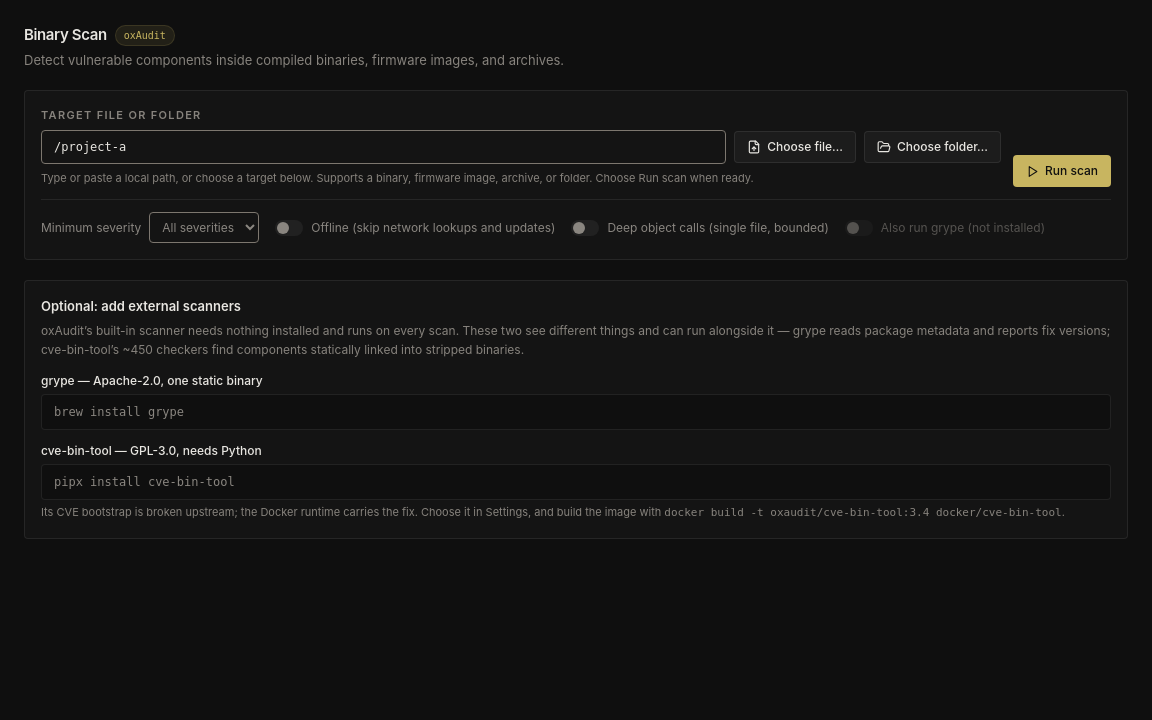
it: binary reloads the saved A receipt after completing A, editing B, and returning to A without a backend revision
Click the button "Run scan". click: (1062, 171)
box: [1013,155,1111,187]
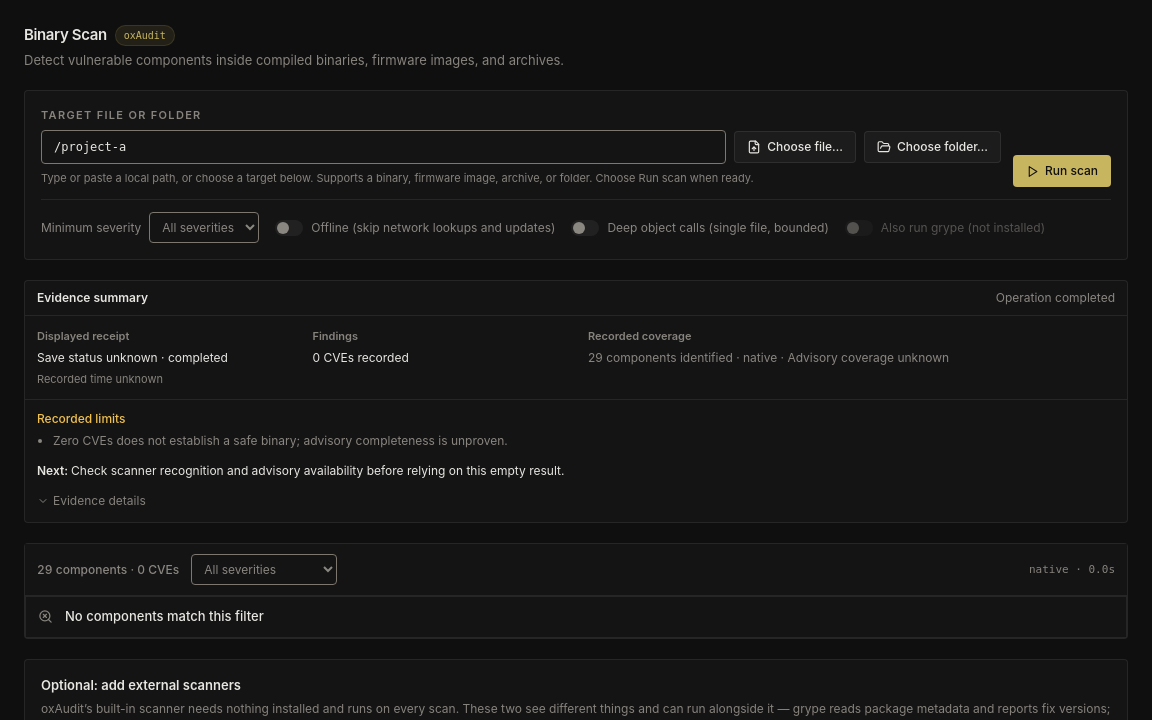
Expected: the text "29 components · 0 CVEs" is shown, [37,561,179,579]
Replace the text in the field named "Binary scan target" with "/project-b". click: (384, 146)
box: [41,130,726,164]
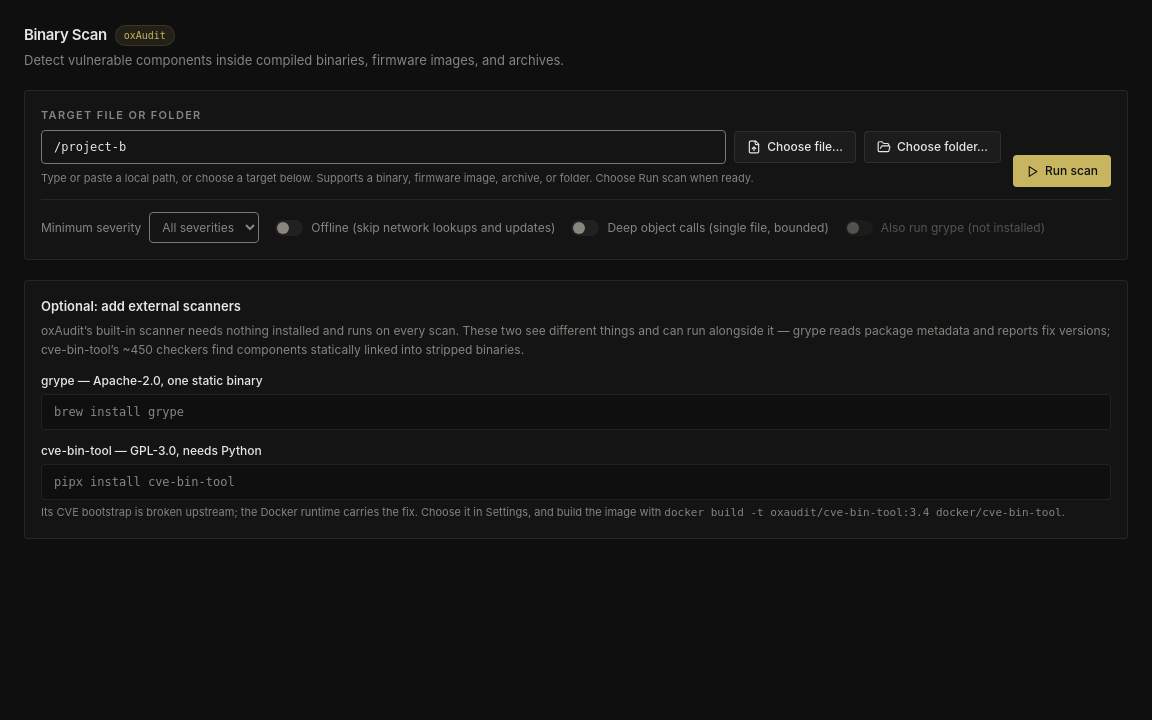
Expected: the text "29 components · 0 CVEs" is gone
Replace the text in the field named "Binary scan target" with "/project-a". click: (384, 146)
box: [41,130,726,164]
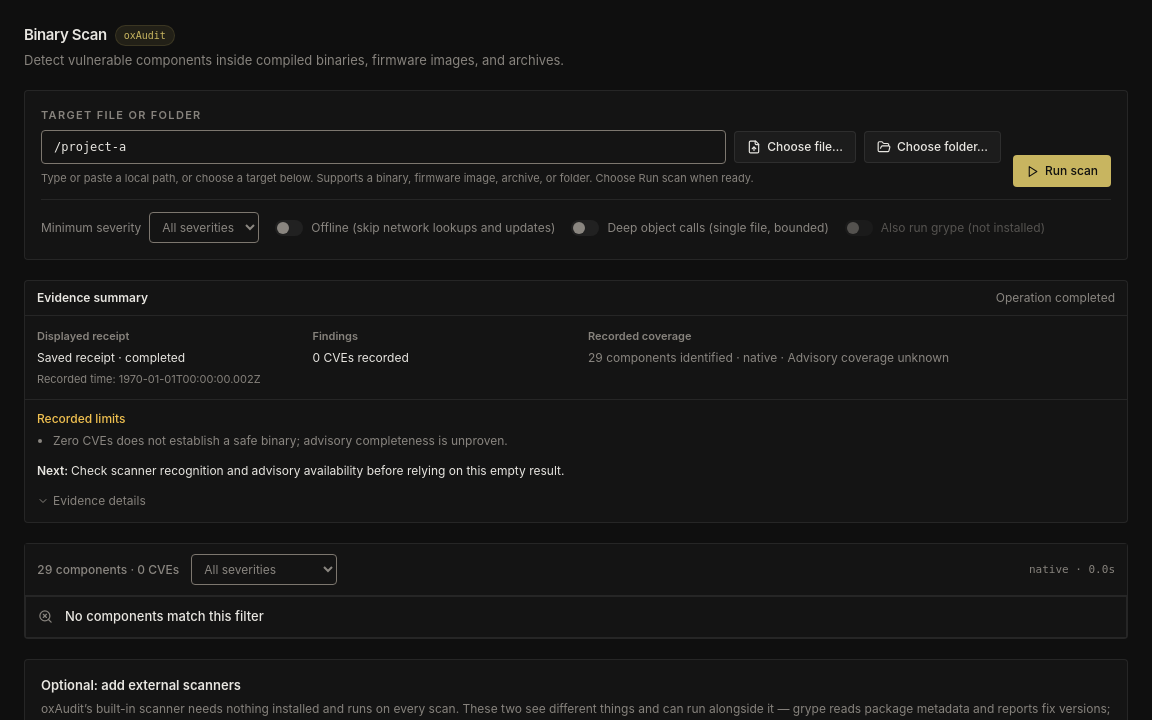
Expected: the text "29 components · 0 CVEs" is shown, [37,561,179,579]
